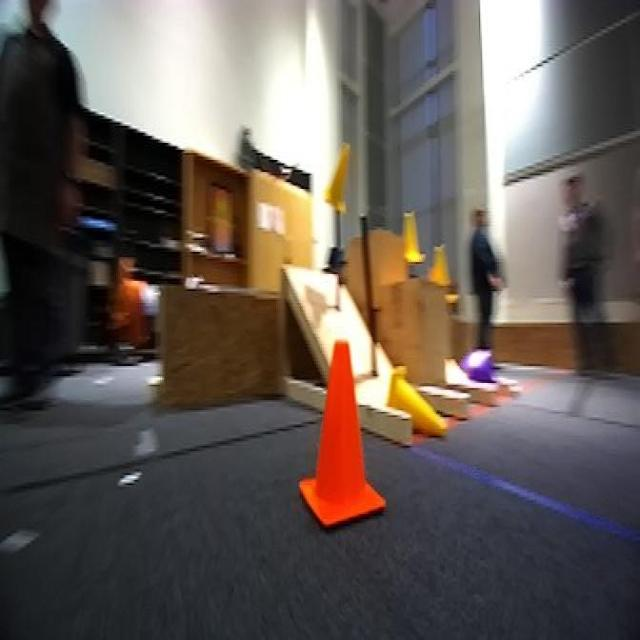frc_cone: (388, 359, 450, 438), (330, 133, 370, 211), (427, 237, 457, 300), (396, 211, 420, 274)
frc_cube: (458, 346, 498, 381)
